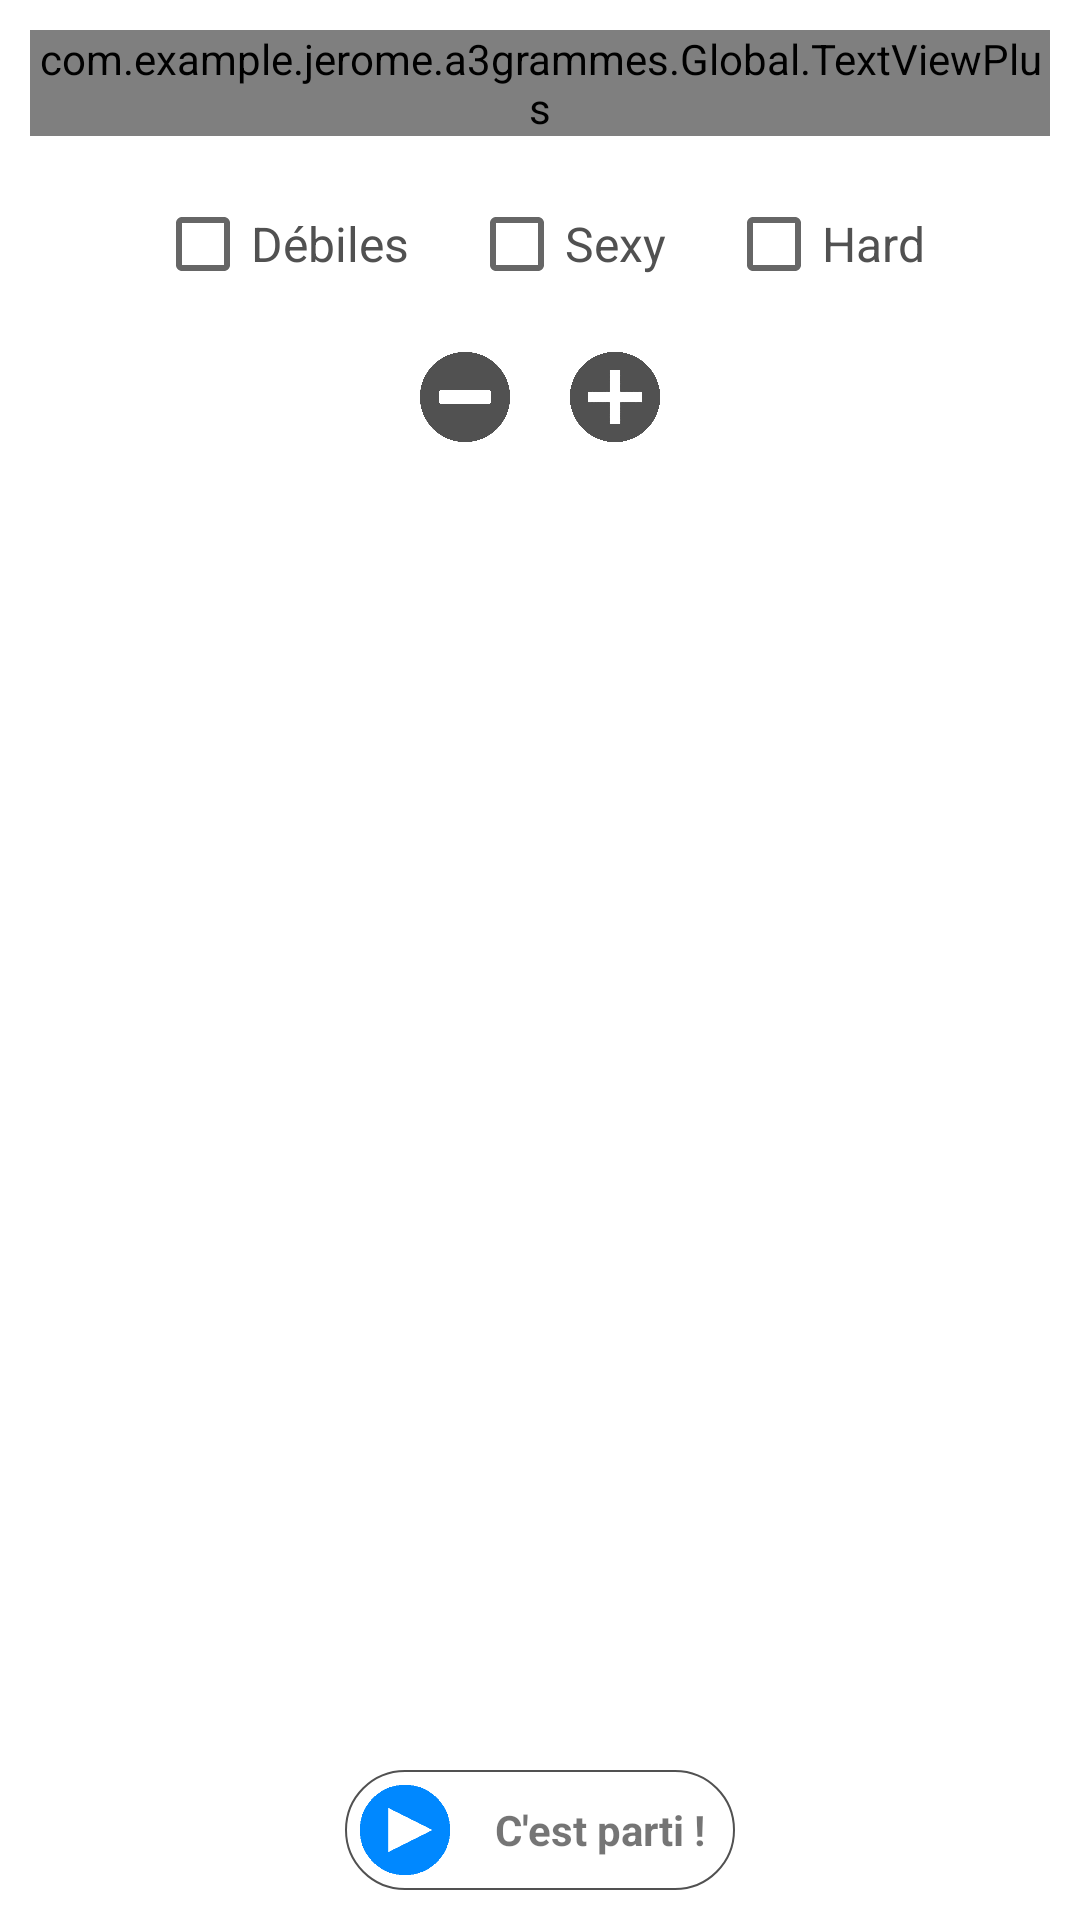

Icons on this 1080 × 1920 Android screen, each with the point to tap as (x=x, y=y):
minus: (x=465, y=397)
play: (x=405, y=1830)
plus: (x=615, y=397)
